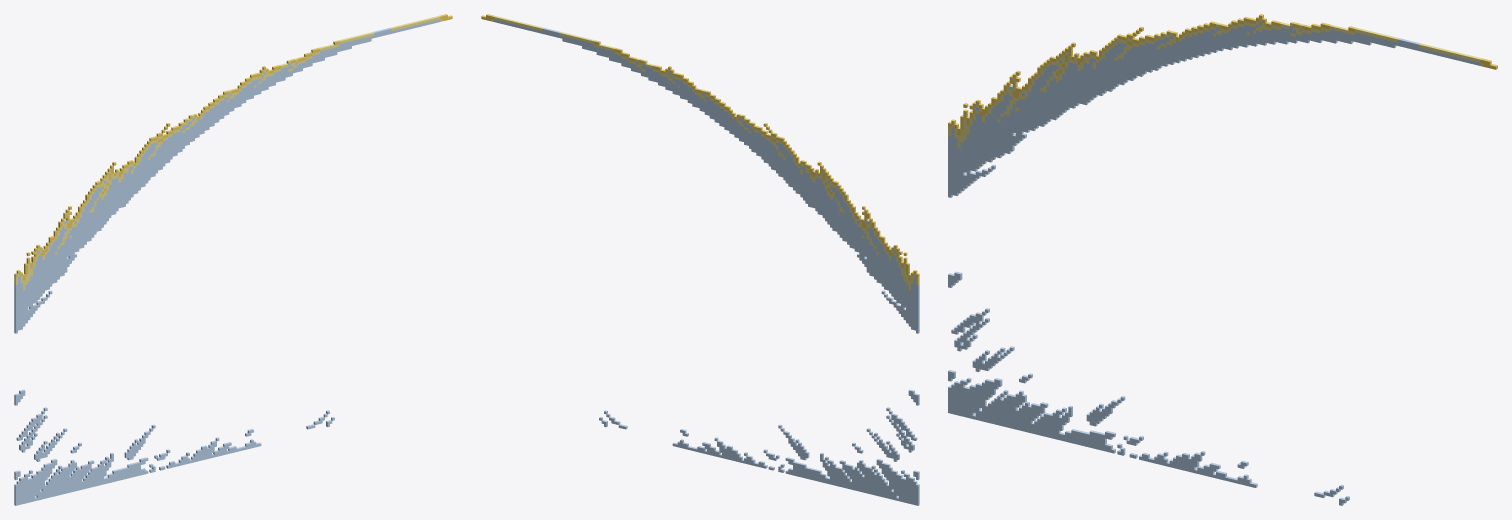
Rendered from Fight_018_3_12_fx.obj.
The picture shows the model from 3 angles, left to right: view 1: azimuth 30°, elevation 25°; view 2: azimuth 150°, elevation 25°; view 3: azimuth 330°, elevation 25°; orthographic projection. The views are drawn at different scales.
Bounding box in the file's own units: 17.8 × 15 × 0.1.
Materials: 1 (1 with a texture image).
